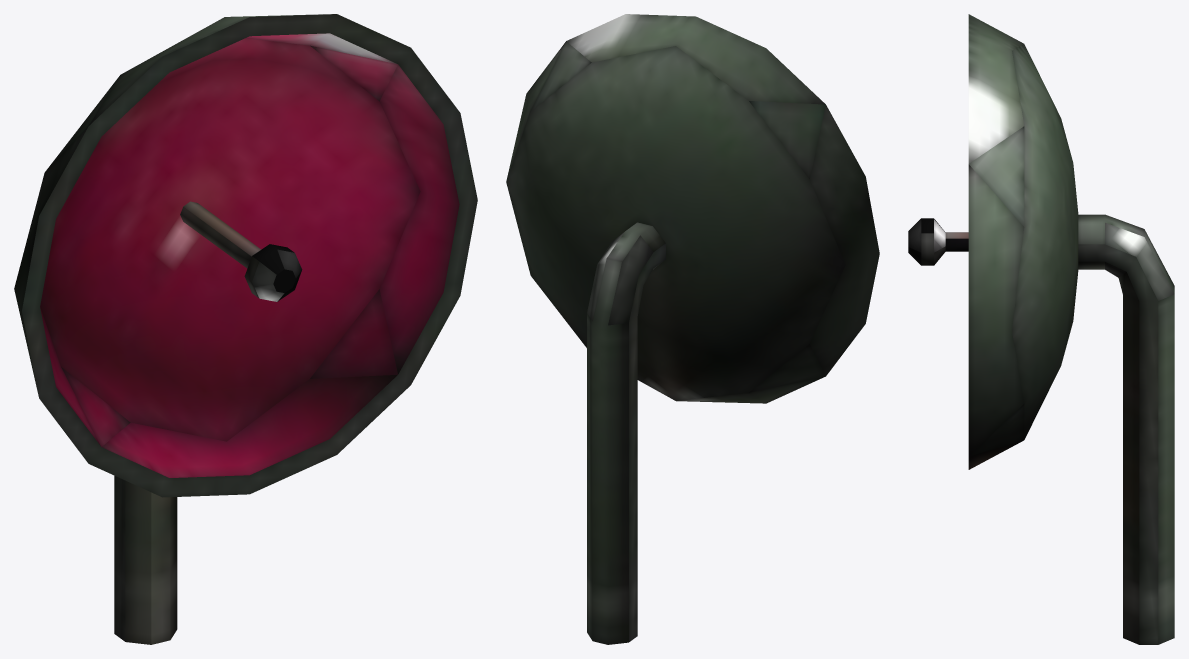
Rendered from bugdish.obj.
3 views of the same model, side by side, from view 1: azimuth 30°, elevation 25°; view 2: azimuth 150°, elevation 25°; view 3: azimuth 270°, elevation 25° (orthographic). The views are drawn at different scales.
Parts seen in each view (by area): view 1: Object003; view 2: Object003; view 3: Object003.
Boxes of the visible parts, bbox=[...] form: Object003: bbox=[14, 14, 477, 644]; Object003: bbox=[506, 14, 879, 644]; Object003: bbox=[908, 14, 1174, 644].
Bounding box in the file's own units: 17.78 × 25.73 × 10.38.
1 material, 1 textured.
